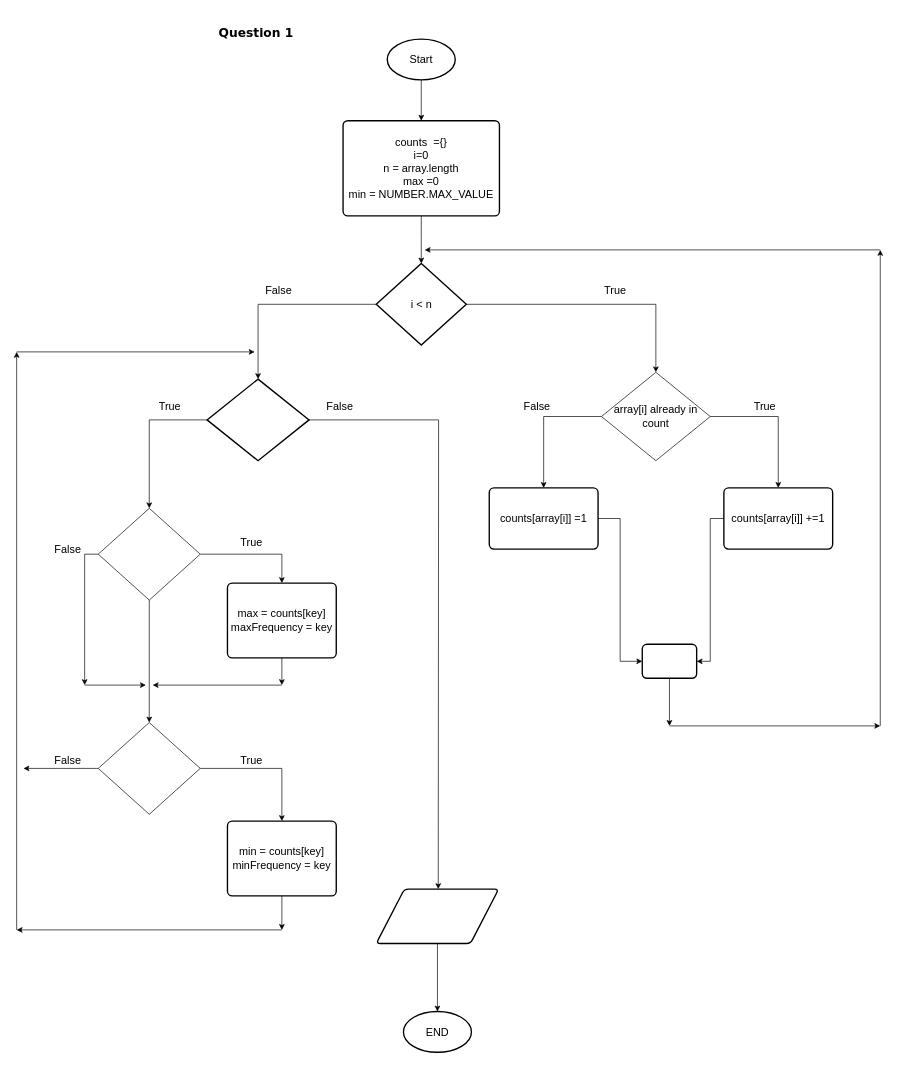
This 898x1065 diagram has some shape labels left out. Each missing label, with the centre of its shape:
counts[key] <min: point (149, 768)
counts[key] >max: point (149, 554)
i ++: point (669, 661)
key in counts?: point (257, 419)
return maxFrequency minFrequency: point (437, 916)
